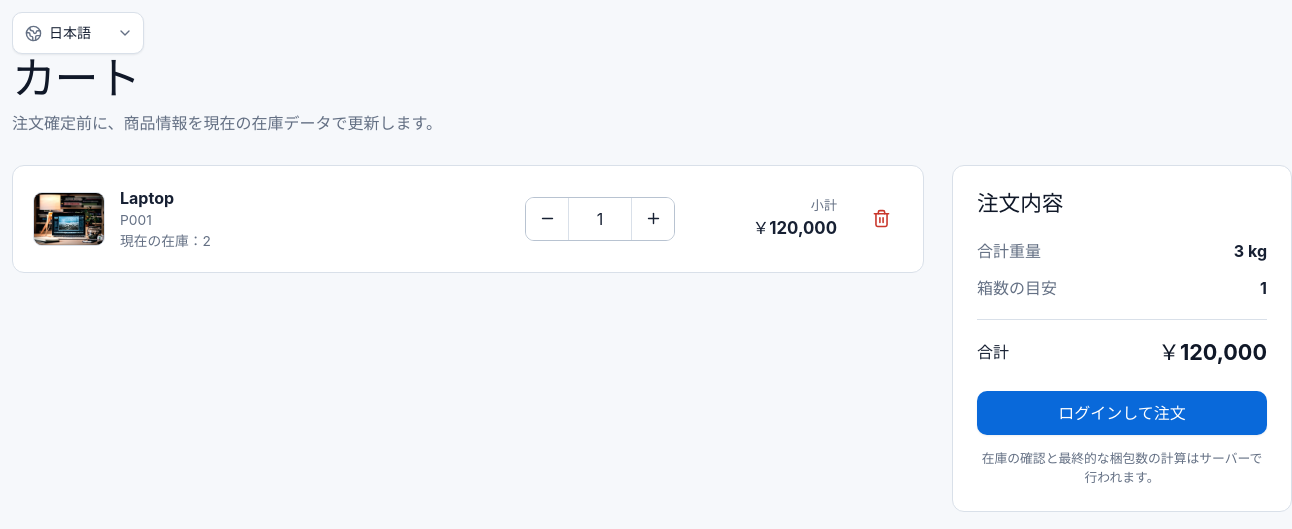
Test: CartPage › updates an active quantity error when the language changes
Clear the number field named "Laptopの数量": x=600, y=219 top-left (568, 198), bottom-right (632, 240)
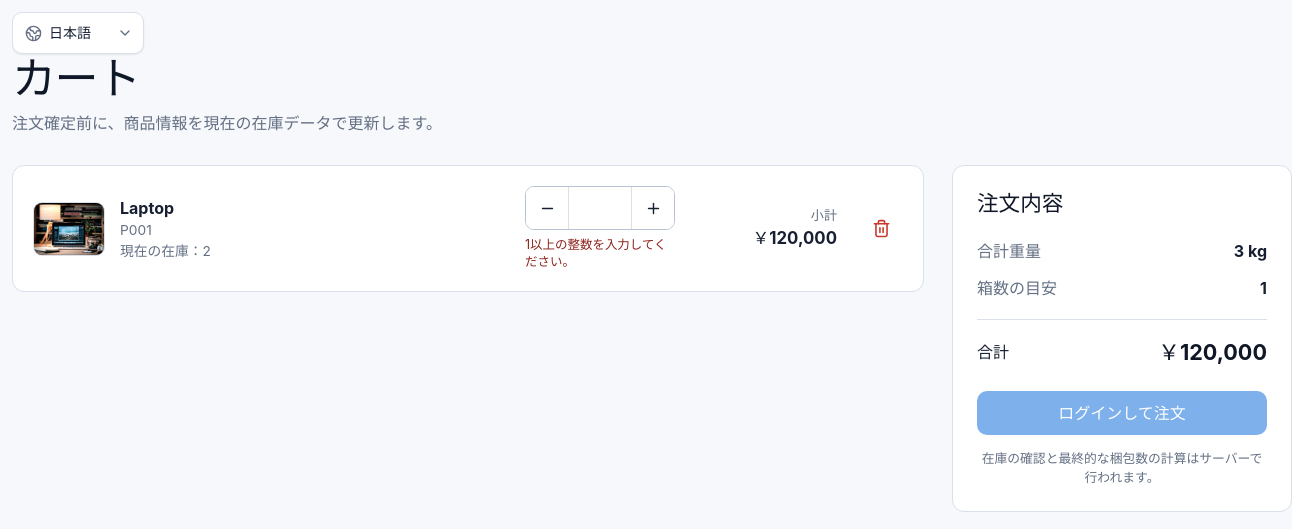
Check: the message reads "1以上の整数を入力してください。", box top-left (525, 237), bottom-right (666, 269)
Select "简体中文" in the dropdown named "言語": x=78, y=33 top-left (13, 13), bottom-right (143, 53)
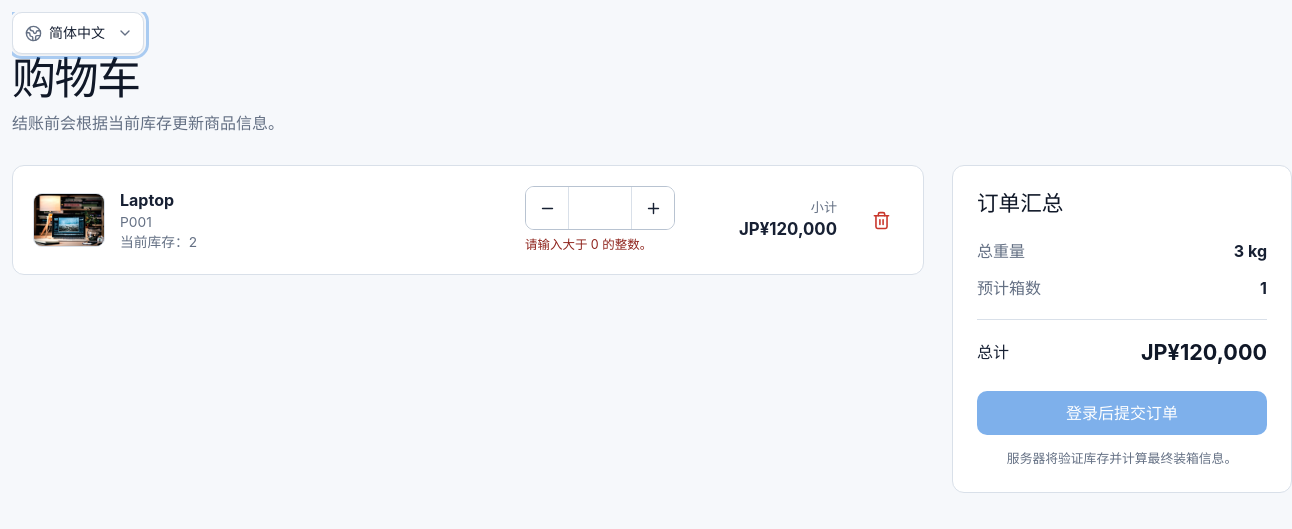
Check: the message reads "请输入大于 0 的整数。", box top-left (525, 237), bottom-right (652, 252)
Check: the text "1以上の整数を入力してください。" is gone
